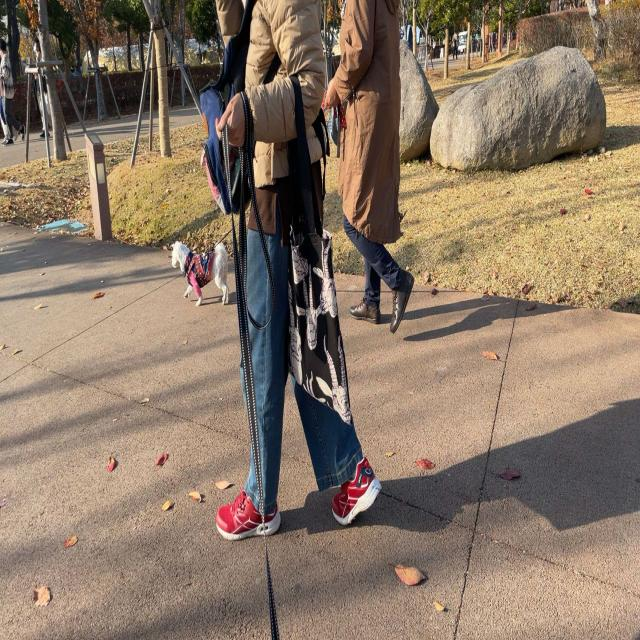Dog: (170, 237, 230, 306)
